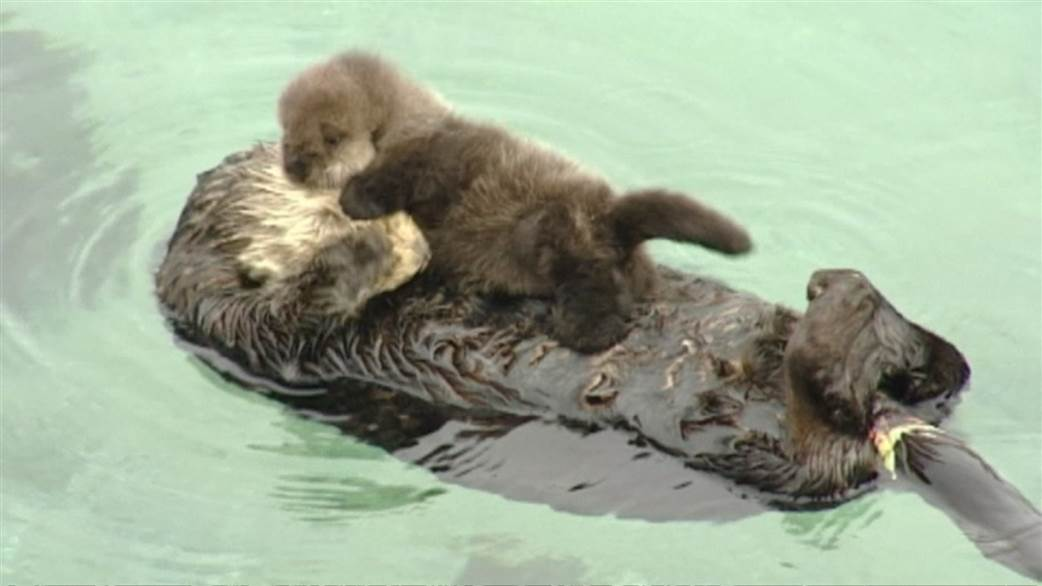otter: (151, 24, 988, 540)
